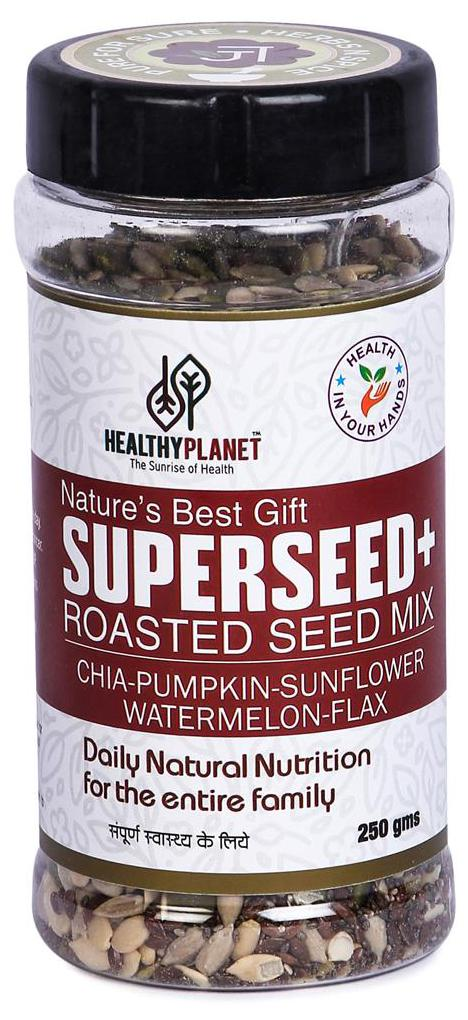JAR: (5, 16, 463, 1002)
